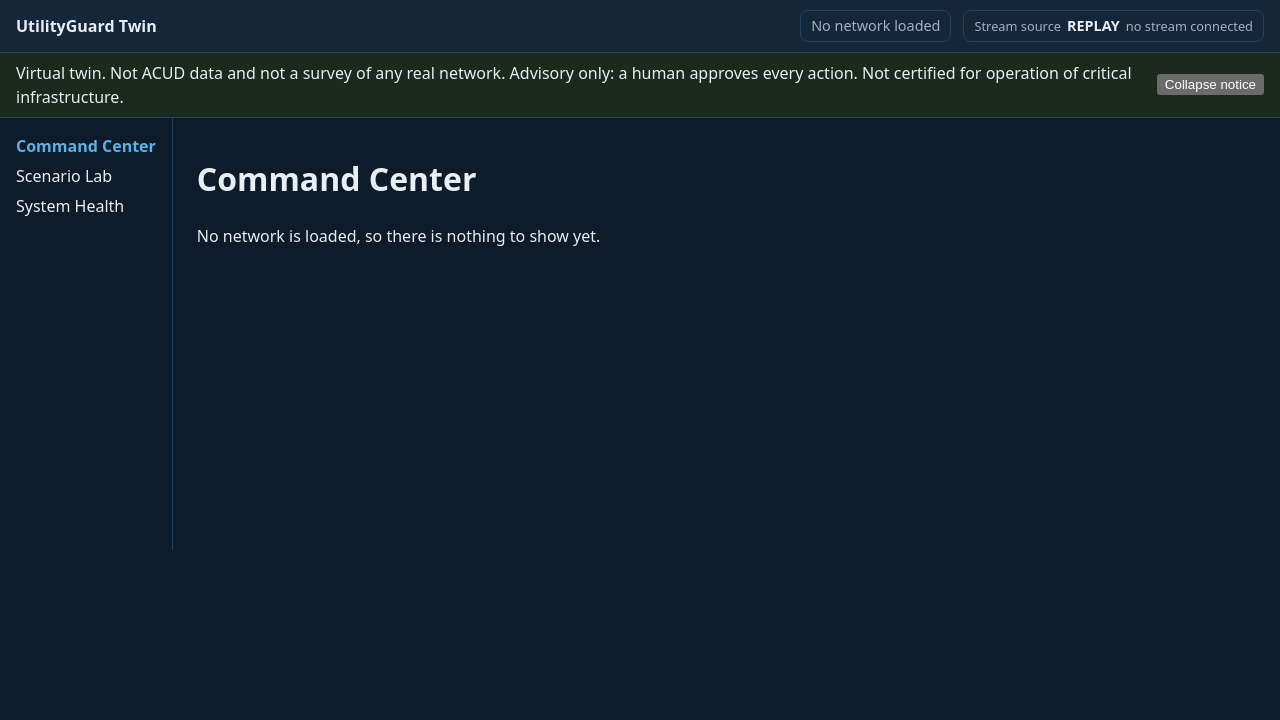
Test: the shell › lets the notice collapse to a chip but never disappear
Click the button "Collapse notice".
click(1210, 85)  # box [1157, 74, 1264, 95]
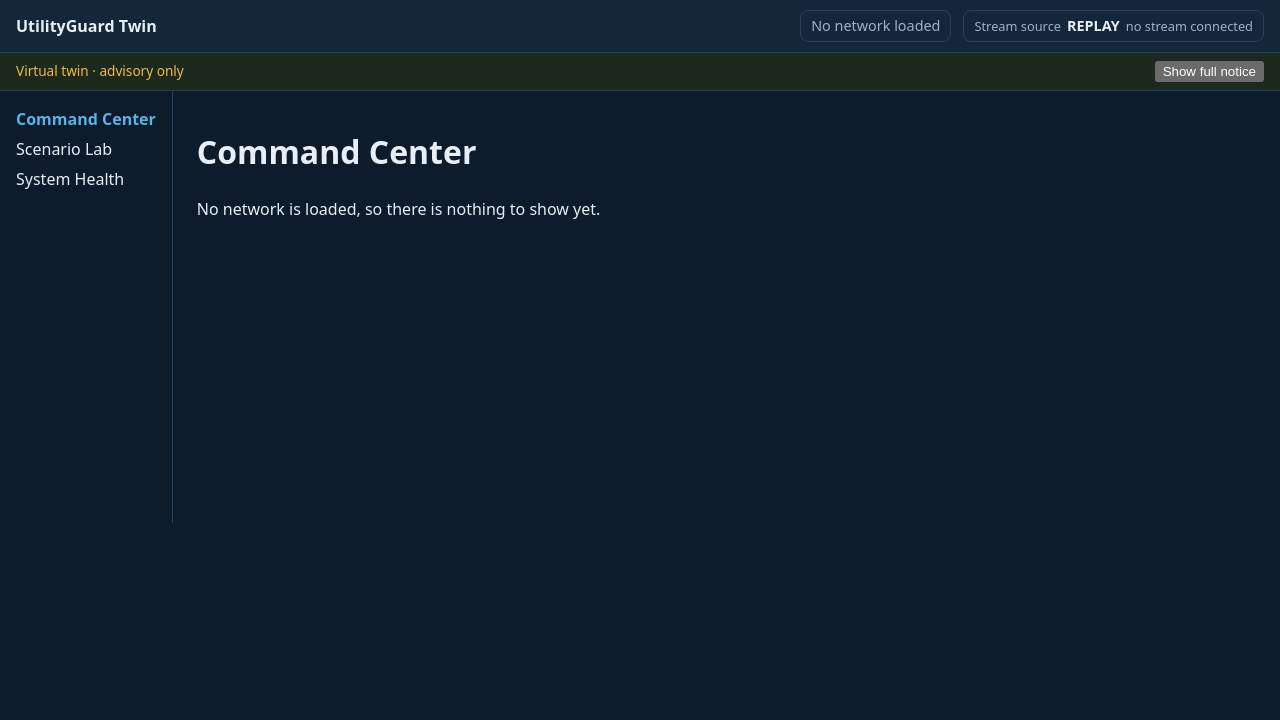
Expected: the text "Virtual twin · advisory only" is shown, [16, 61, 184, 80]
Expected: the text "Virtual twin. Not ACUD data and not a survey of any real network. Advisory only: a human approves every action. Not cert" is gone
Click the button "Show full notice".
click(1209, 71)  # box [1155, 61, 1264, 82]
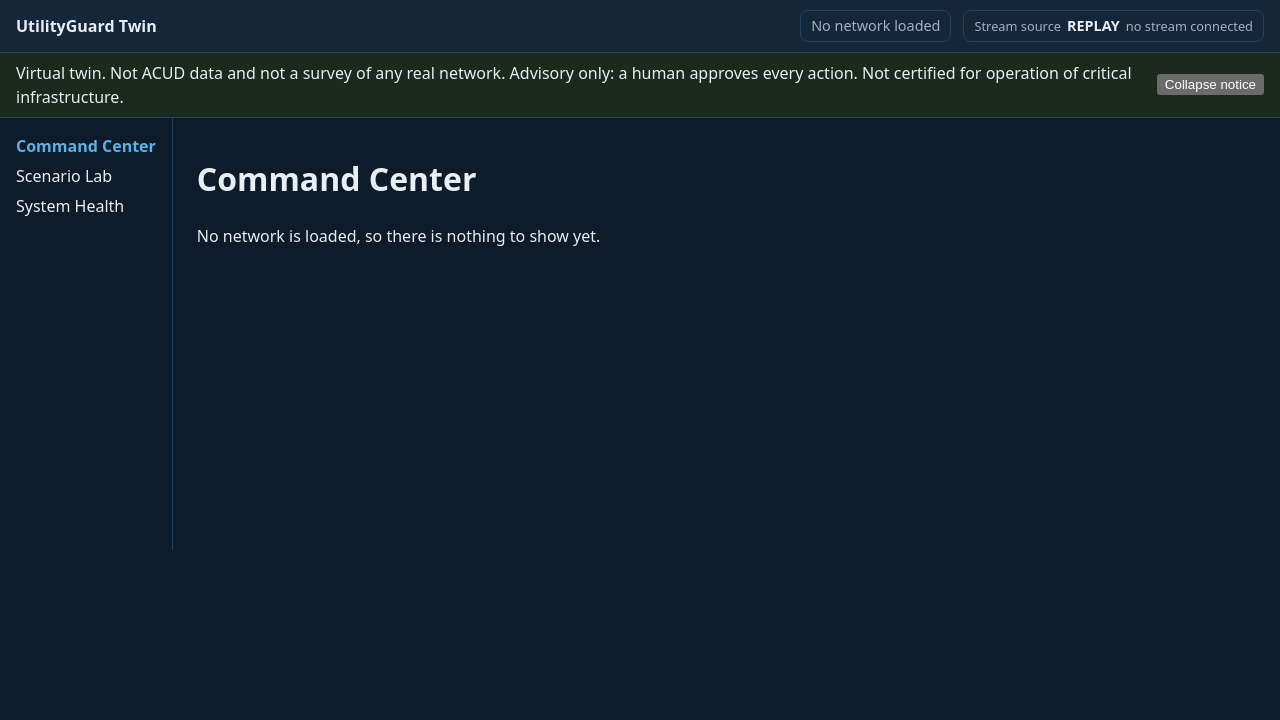
Expected: the text "Virtual twin. Not ACUD data and not a survey of any real network. Advisory only: a human approves every action. Not cert" is shown, [16, 62, 1132, 108]
